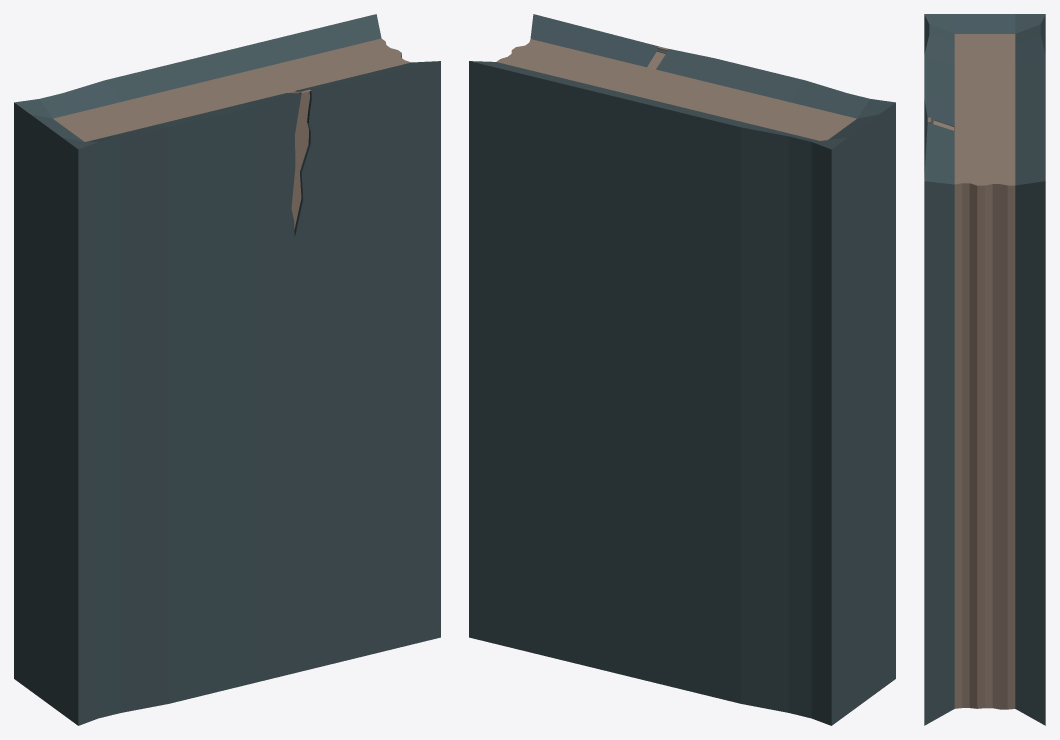
Rendered from book4.fbx.
The picture shows the model from 3 angles, left to right: view 1: azimuth 30°, elevation 25°; view 2: azimuth 150°, elevation 25°; view 3: azimuth 270°, elevation 25°; orthographic projection. The views are drawn at different scales.
Parts seen in each view (by area): view 1: Cube; view 2: Cube; view 3: Cube.
Part boxes in pixels (x1,y1,x2,y2): Cube: [14, 14, 440, 725]; Cube: [469, 14, 895, 725]; Cube: [924, 14, 1045, 725].
Bounding box in the file's own units: 200 × 304 × 61.41.
